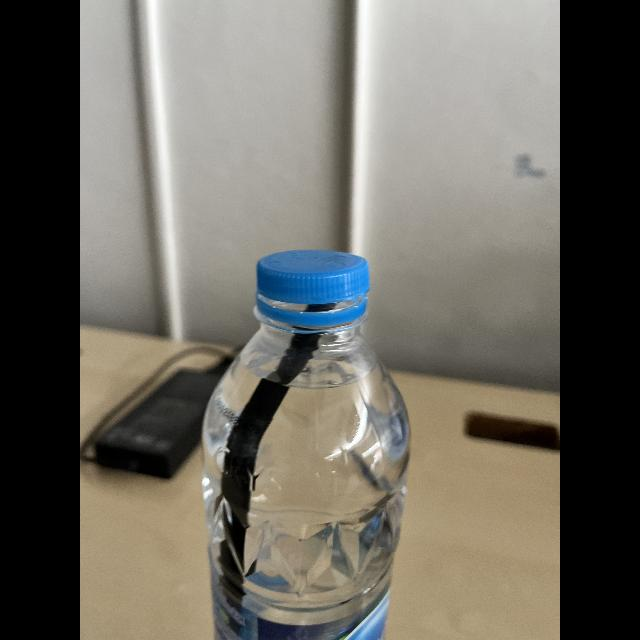plastic_bottle_cap: (253, 230, 373, 304)
